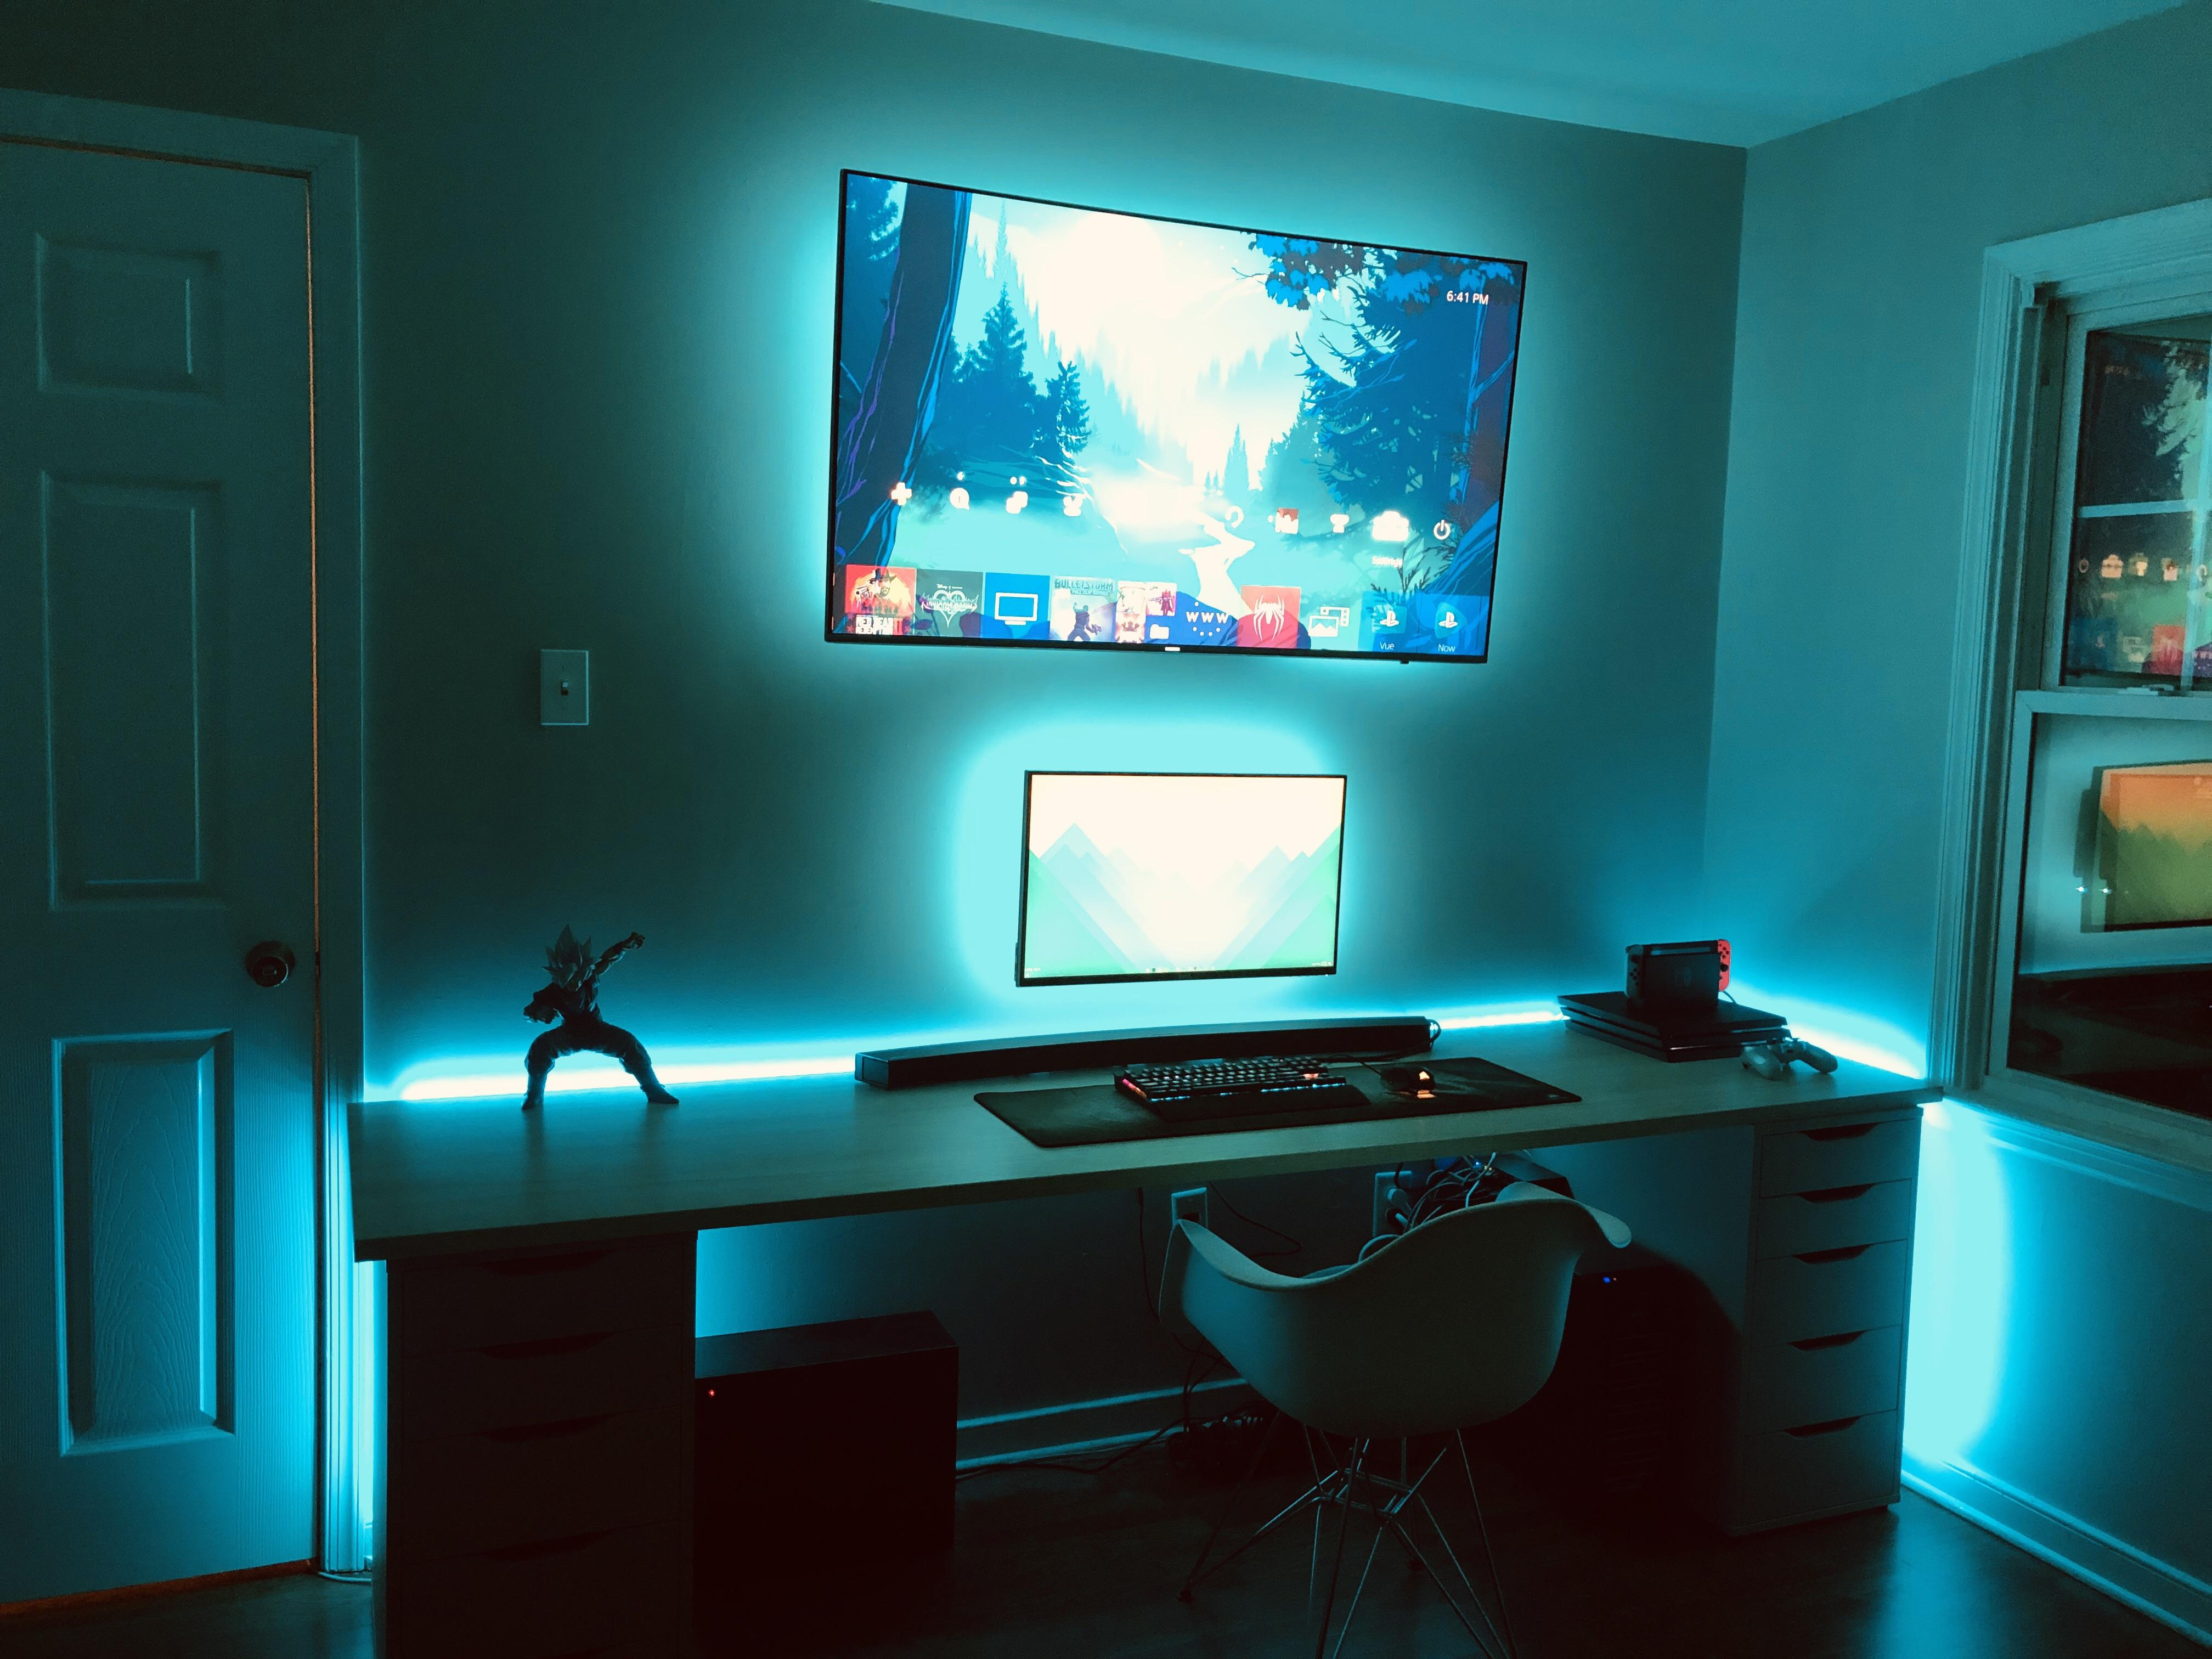Chair (Generic): (1169, 1183, 1620, 1643)
Decoration (Miniature): (509, 918, 693, 1108)
Desk (Generic): (348, 995, 1959, 1220)
External Speakers (Generic): (850, 1012, 1446, 1060)
Gaming Console: (1559, 983, 1789, 1053), (1627, 939, 1730, 1006)
Gaming Controller: (1728, 1032, 1844, 1086)
Keyboard (Gaming): (1118, 1060, 1355, 1112)
Monitor (Landscape): (1021, 769, 1338, 976)
Mouse (Gaming): (1374, 1060, 1440, 1101)
Mousepad (Gaming): (979, 1072, 1580, 1121)
Storage Drawer: (378, 1237, 678, 1656), (1731, 1126, 1916, 1516)
